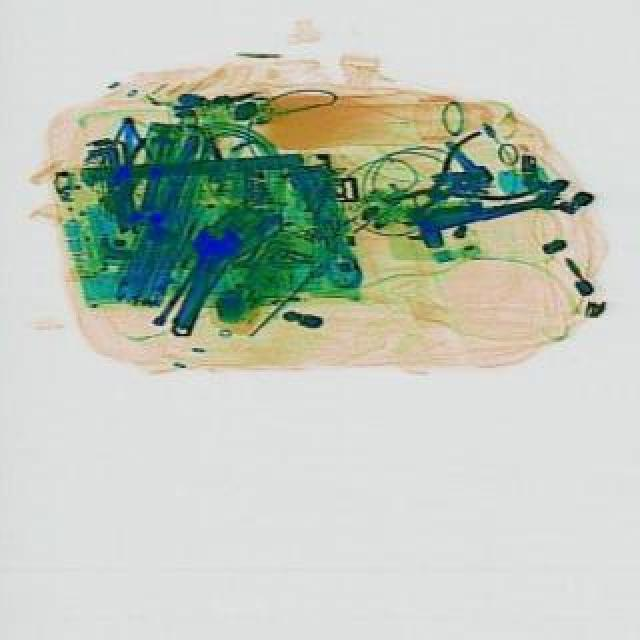scissors: (156, 222, 242, 346), (400, 194, 562, 242)
